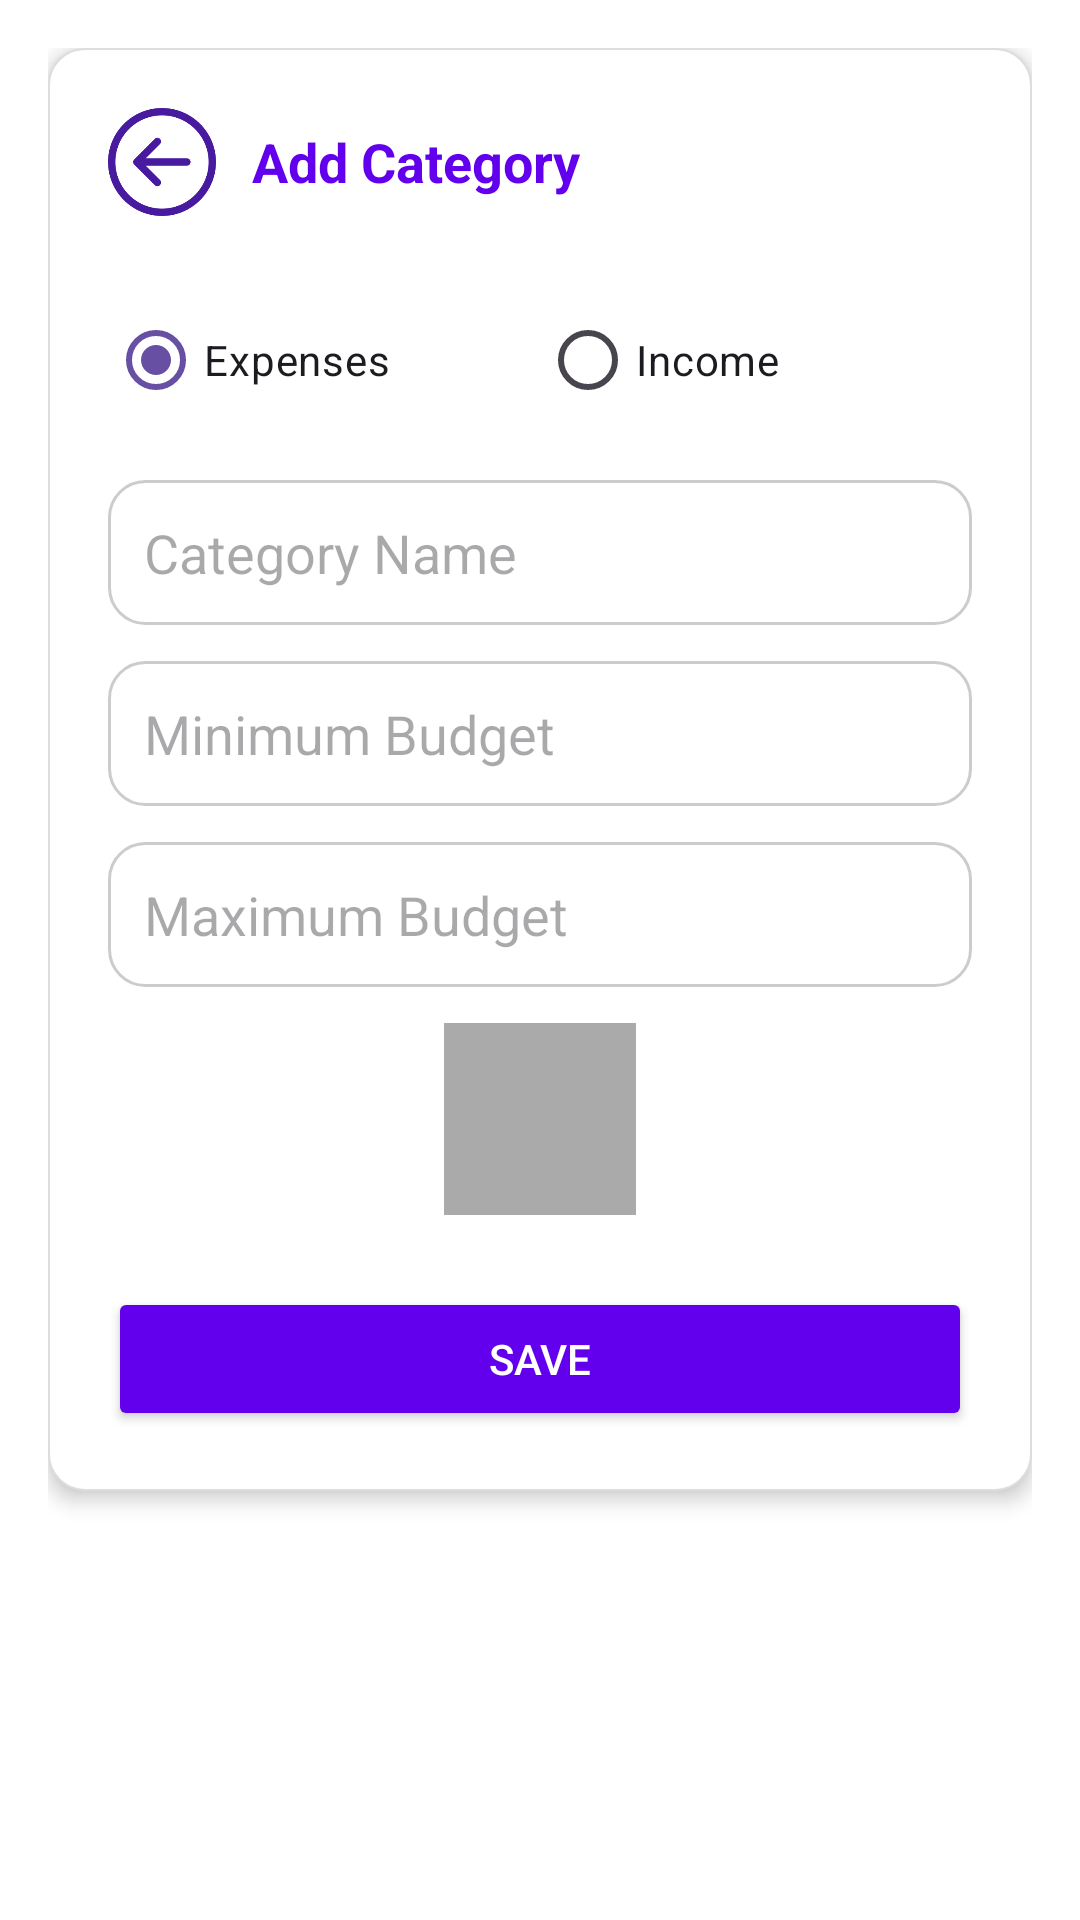

Icons on this 1080*1920 Android screen, each with its box as (x1=x1, y1=y1, x2=x2, y2=y2):
back: (x1=108, y1=108, x2=216, y2=216)
